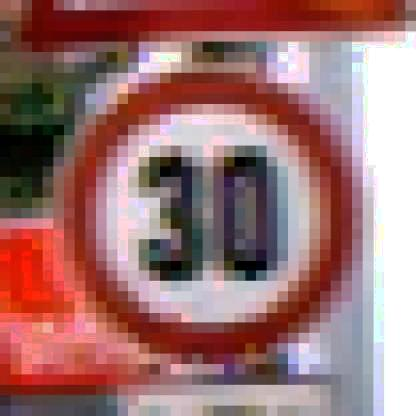Speed Limit -30-: (56, 70, 358, 359)
